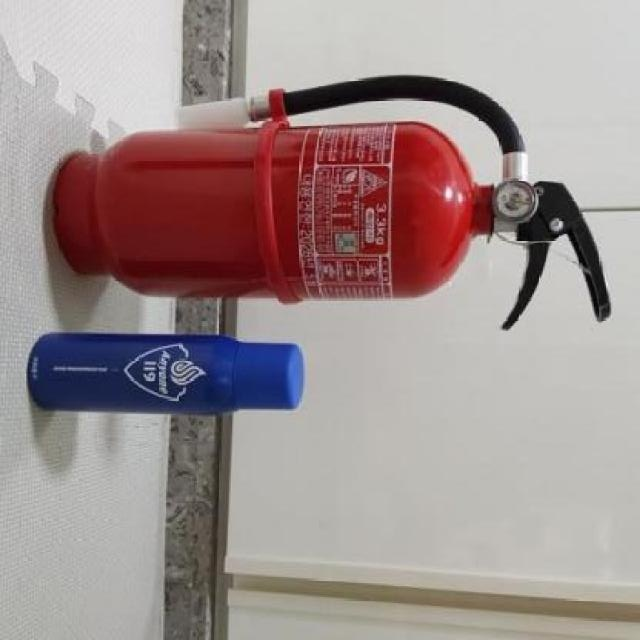fire extinguisher: (54, 73, 612, 332)
